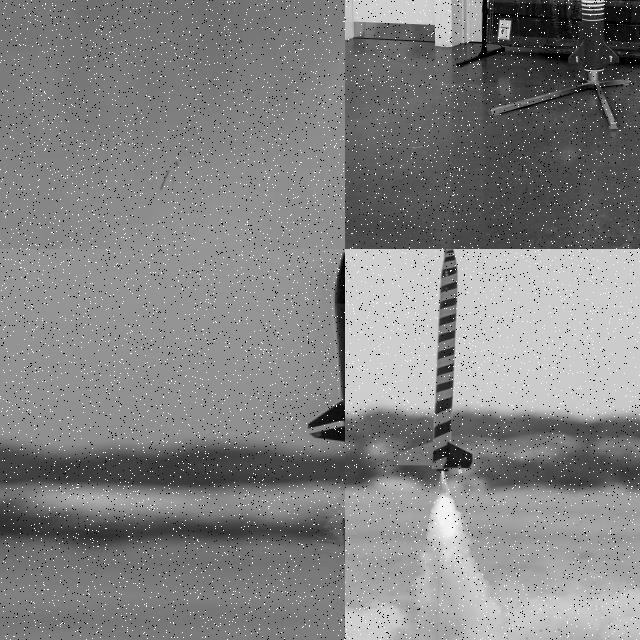Rocket: (393, 249, 474, 474), (303, 250, 345, 450), (568, 0, 620, 72)
